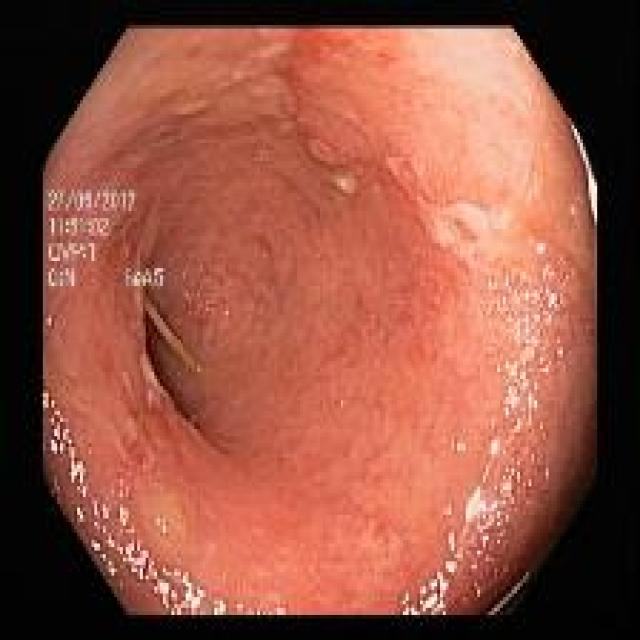ulcerative-colitis: (42, 28, 596, 616)
